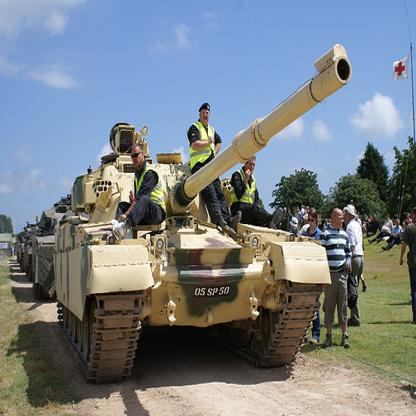Tank: (57, 43, 356, 388)
